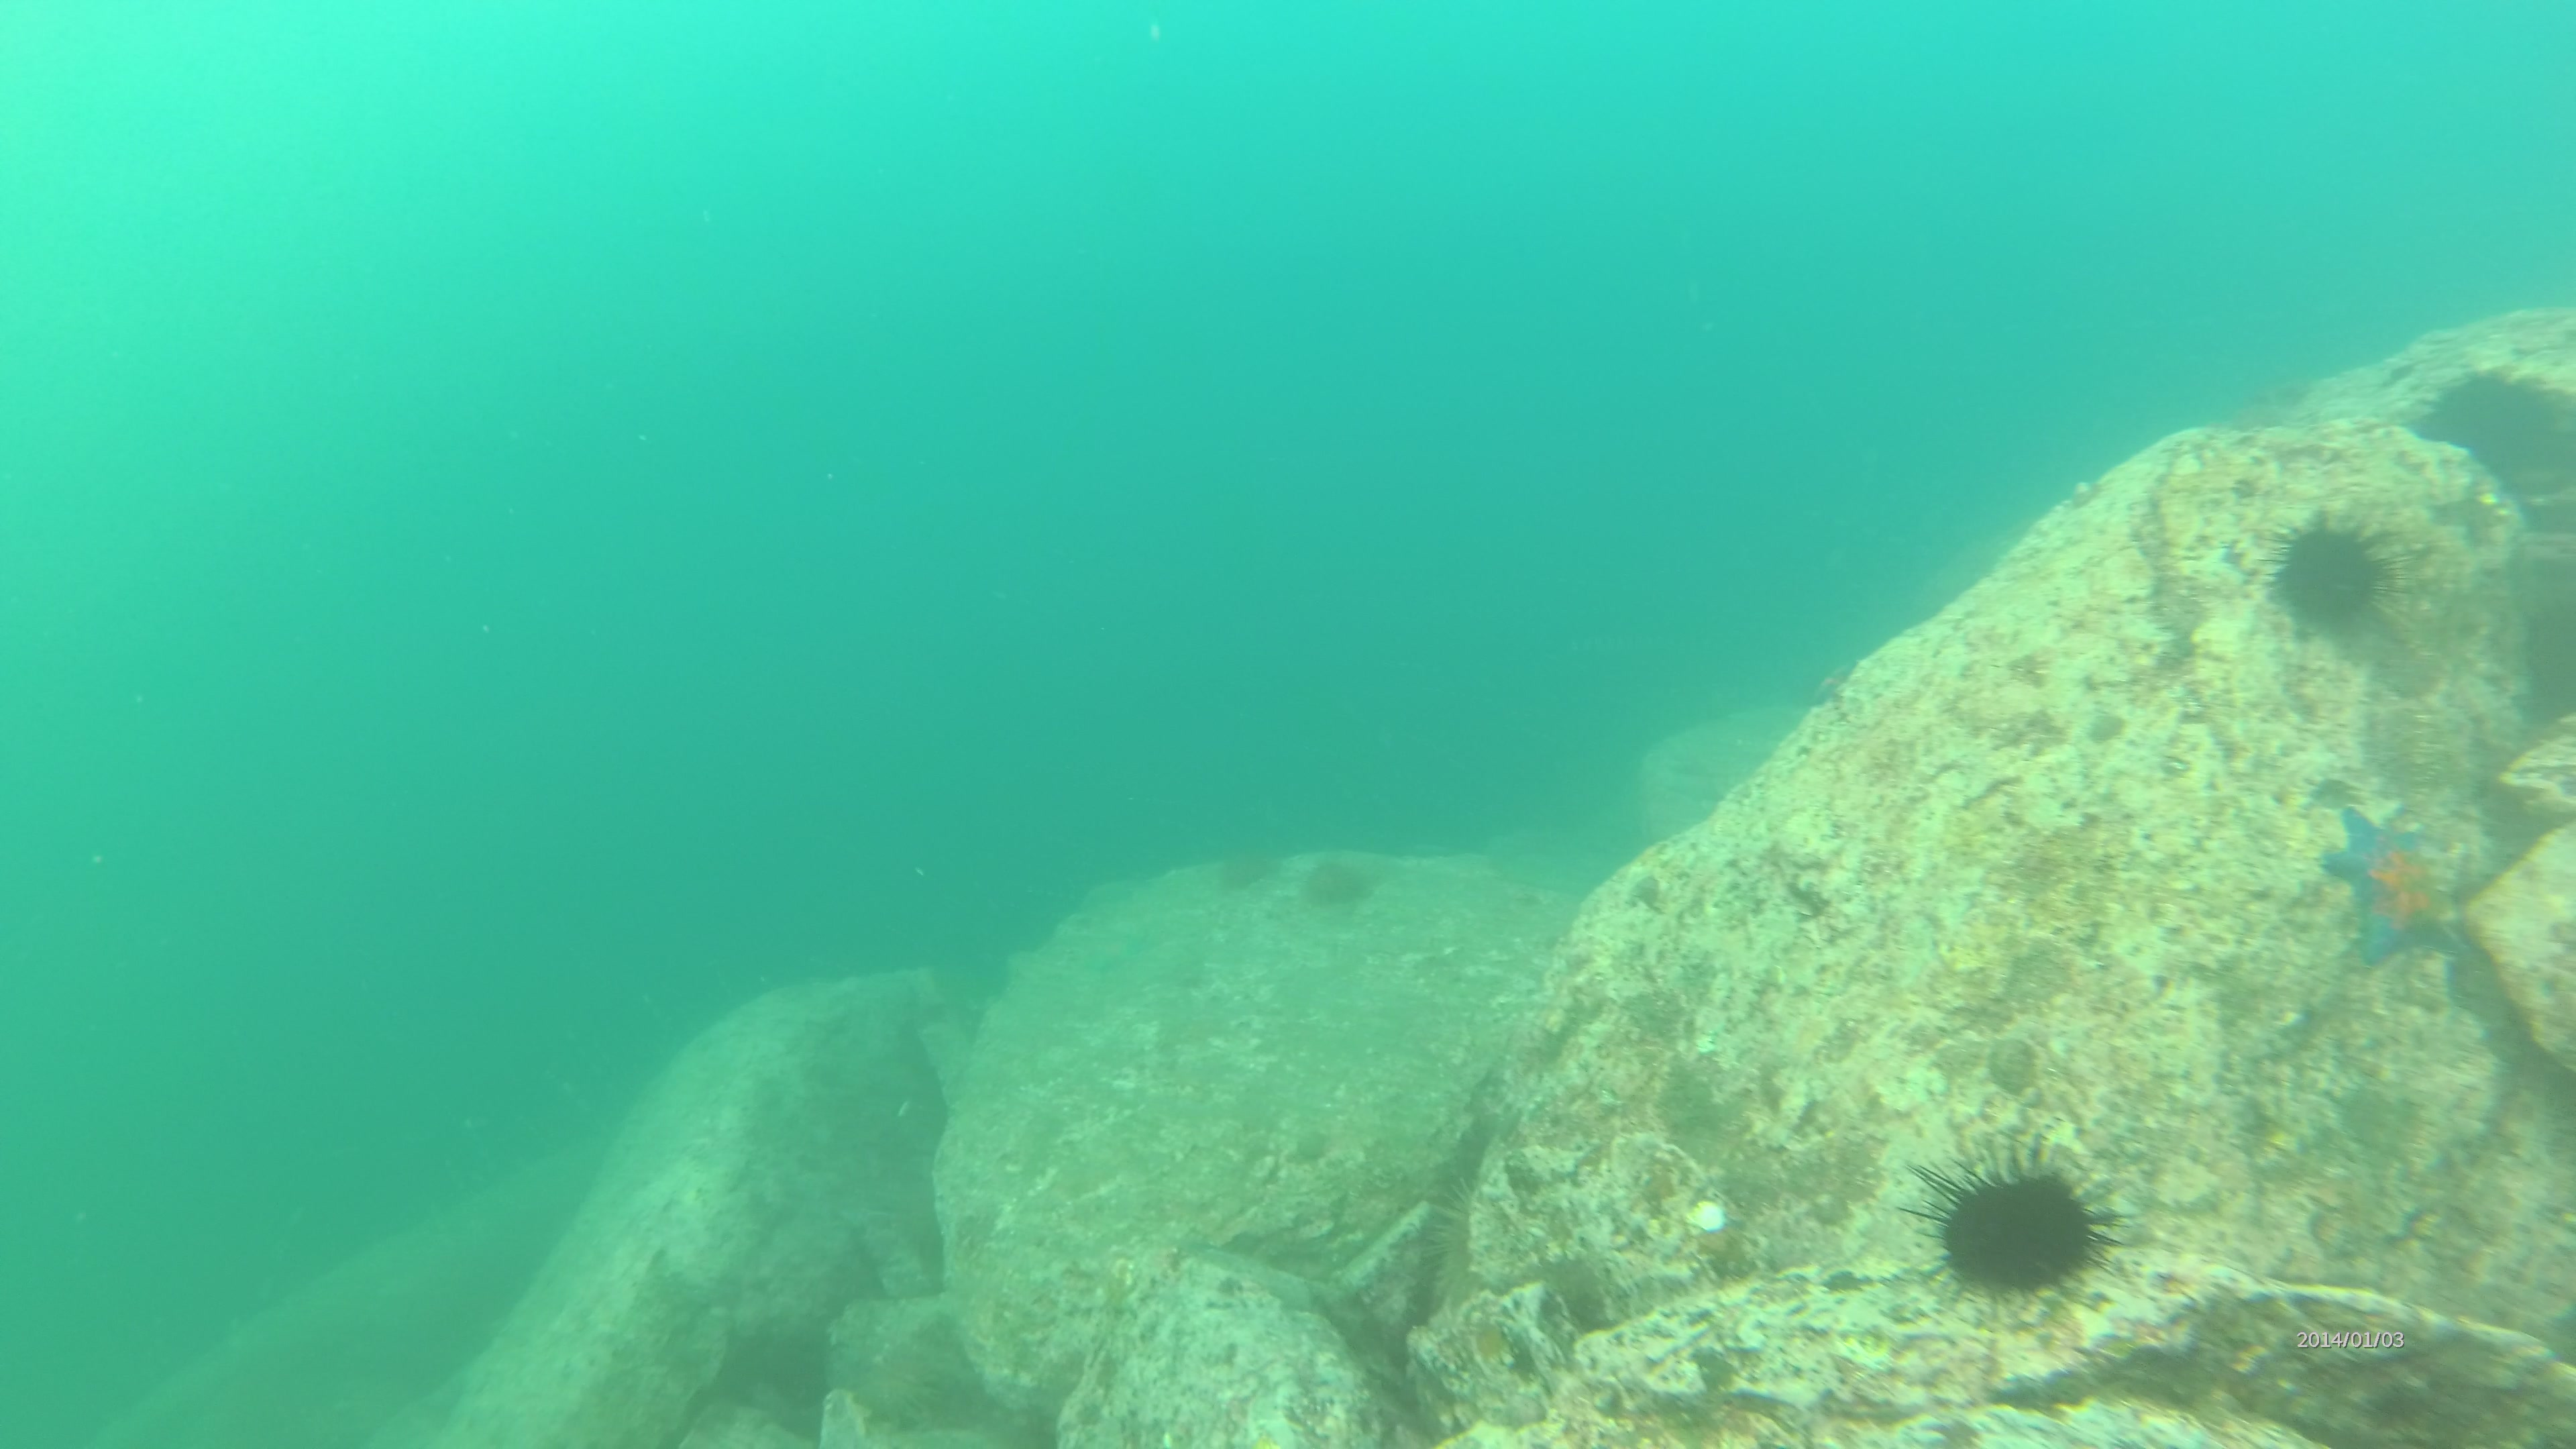echinus: (1891, 1138, 2130, 1313), (2259, 511, 2415, 630)
starfish: (2319, 796, 2463, 966)
